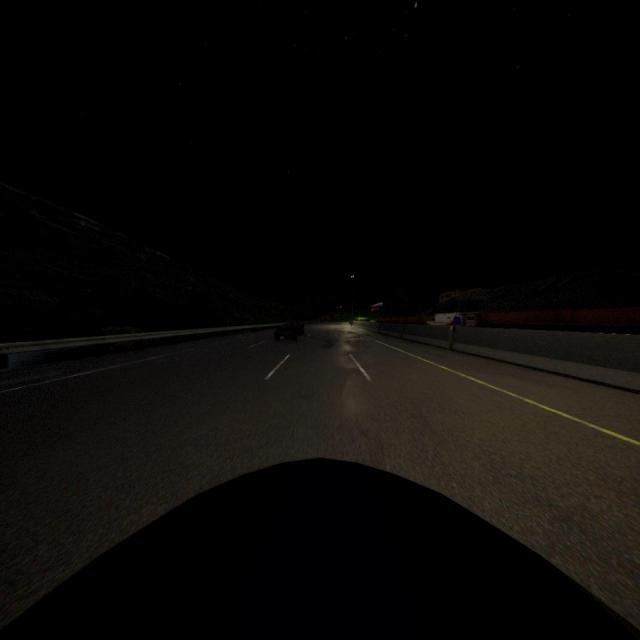Vehicle: (0, 457, 640, 640), (272, 318, 304, 342)
